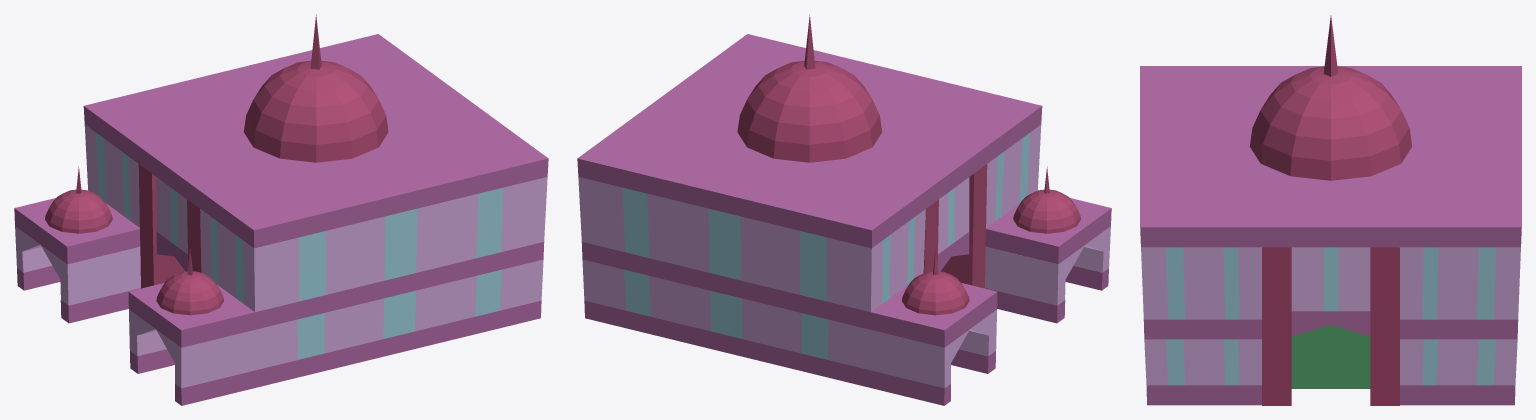
The model's file is ShoppingMall.fbx.
The picture shows the model from 3 angles, left to right: view 1: azimuth 30°, elevation 25°; view 2: azimuth 150°, elevation 25°; view 3: azimuth 270°, elevation 25°; orthographic projection. The views are drawn at different scales.
Parts seen in each view (by area): view 1: Upper Base Mall, Walls, Huts, Upper Hut, Lower Base Mall, Middle Base Mall, Hut Roofs, Alleyway, Alleyway Roof; view 2: Upper Base Mall, Walls, Huts, Upper Hut, Lower Base Mall, Middle Base Mall, Hut Roofs, Alleyway, Alleyway Roof; view 3: Upper Base Mall, Walls, Upper Hut, Alleyway, Alleyway Roof, Middle Base Mall, Lower Base Mall, Interior.
Part boxes in pixels (left/top/right/bottom): Upper Base Mall: left=83, top=34, right=548, bottom=248; Walls: left=84, top=124, right=547, bottom=370; Huts: left=14, top=190, right=255, bottom=388; Upper Hut: left=243, top=14, right=388, bottom=162; Lower Base Mall: left=17, top=265, right=541, bottom=405; Middle Base Mall: left=255, top=242, right=544, bottom=329; Hut Roofs: left=45, top=166, right=223, bottom=315; Alleyway: left=138, top=164, right=202, bottom=288; Alleyway Roof: left=156, top=177, right=188, bottom=271; Upper Base Mall: left=577, top=34, right=1042, bottom=248; Walls: left=578, top=124, right=1041, bottom=370; Huts: left=870, top=190, right=1111, bottom=388; Upper Hut: left=737, top=14, right=882, bottom=162; Lower Base Mall: left=584, top=265, right=1108, bottom=405; Middle Base Mall: left=581, top=242, right=870, bottom=329; Hut Roofs: left=902, top=166, right=1080, bottom=315; Alleyway: left=923, top=164, right=987, bottom=288; Alleyway Roof: left=937, top=177, right=969, bottom=271; Upper Base Mall: left=1140, top=66, right=1521, bottom=247; Walls: left=1141, top=247, right=1520, bottom=385; Upper Hut: left=1249, top=15, right=1412, bottom=180; Alleyway: left=1262, top=247, right=1399, bottom=405; Alleyway Roof: left=1291, top=247, right=1370, bottom=336; Middle Base Mall: left=1143, top=319, right=1518, bottom=339; Lower Base Mall: left=1146, top=385, right=1515, bottom=405; Interior: left=1291, top=325, right=1370, bottom=388.
Bounding box in the file's own units: 6445 × 4700 × 5194.
